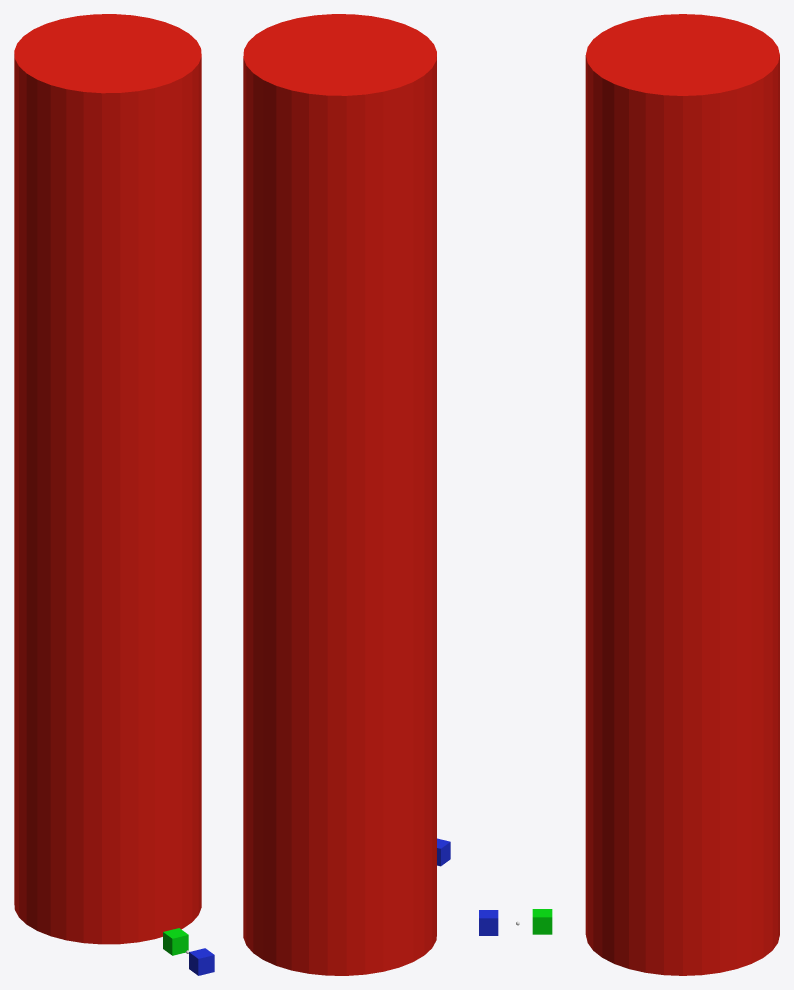
The model's file is sceneDevoir3_sphere.glb.
3 views of the same model, side by side, from view 1: azimuth 30°, elevation 25°; view 2: azimuth 150°, elevation 25°; view 3: azimuth 270°, elevation 25° (orthographic). The views are drawn at different scales.
Visible parts, largest first — view 1: Cylinder, Cube, Cargo; view 2: Cylinder; view 3: Cylinder.
Part boxes in pixels (box(x1,y1,x2,y2)): Cylinder: box(14, 14, 201, 944); Cube: box(189, 948, 214, 975); Cargo: box(163, 928, 188, 955); Cylinder: box(243, 14, 436, 975); Cylinder: box(585, 14, 779, 975).
Size of what is drawn, in the model's own units: 200 by 1000 by 310.
